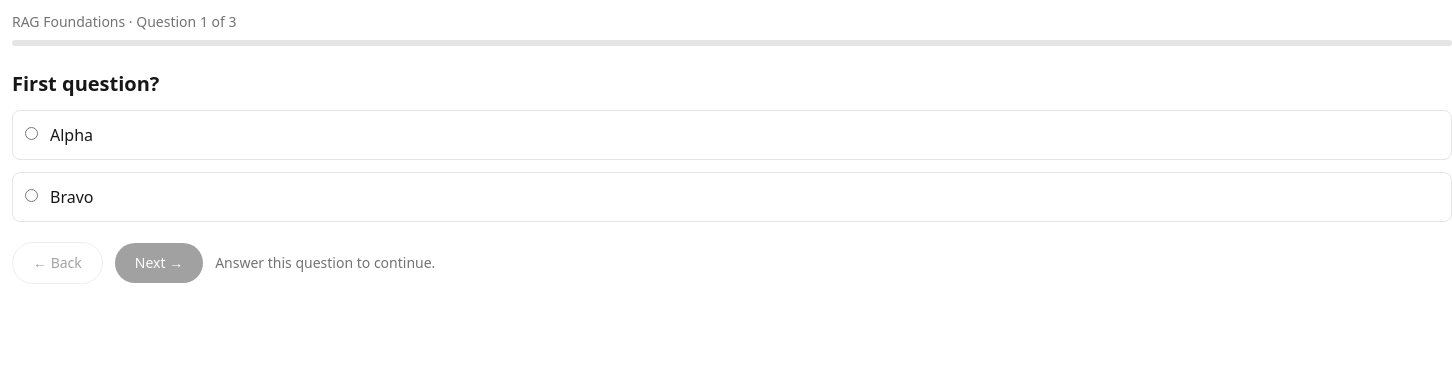
Test case: QuizRunner: one question per page › shows one question at a time, and Next needs an answer (with the reason shown)
Expected: the text "RAG Foundations · Question 1 of 3" is shown, [12, 12, 236, 31]
Expected: the heading reads "First question?", [12, 70, 159, 97]
What coordinates should you click on to do the following:
click the radio button labelled "Alpha"
I would click on:
 (32, 133)
Its box is [25, 126, 38, 140].
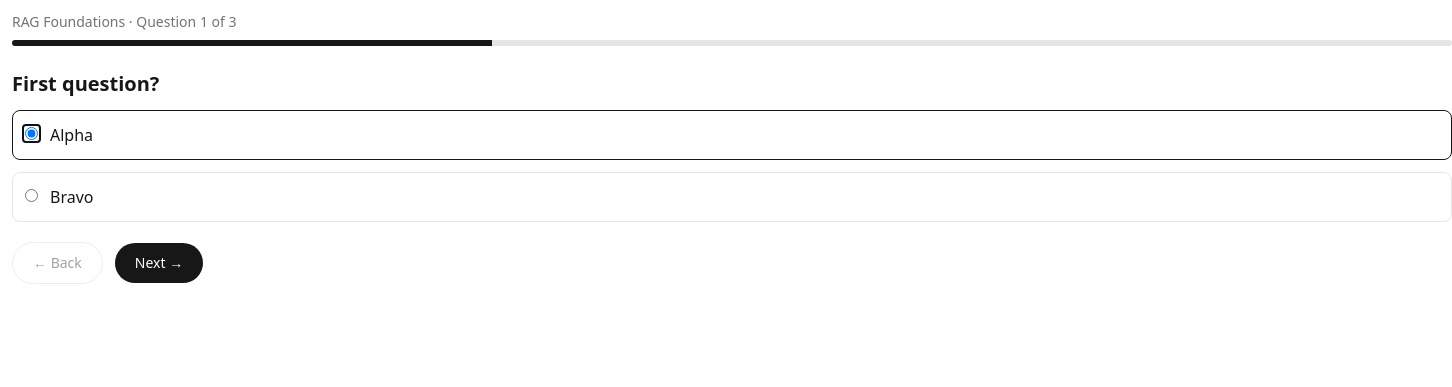
Result: the button "Next →" is enabled
What coordinates should you click on to do the following:
click the button "Next →"
I would click on:
 (159, 262)
Its box is [115, 242, 203, 282].
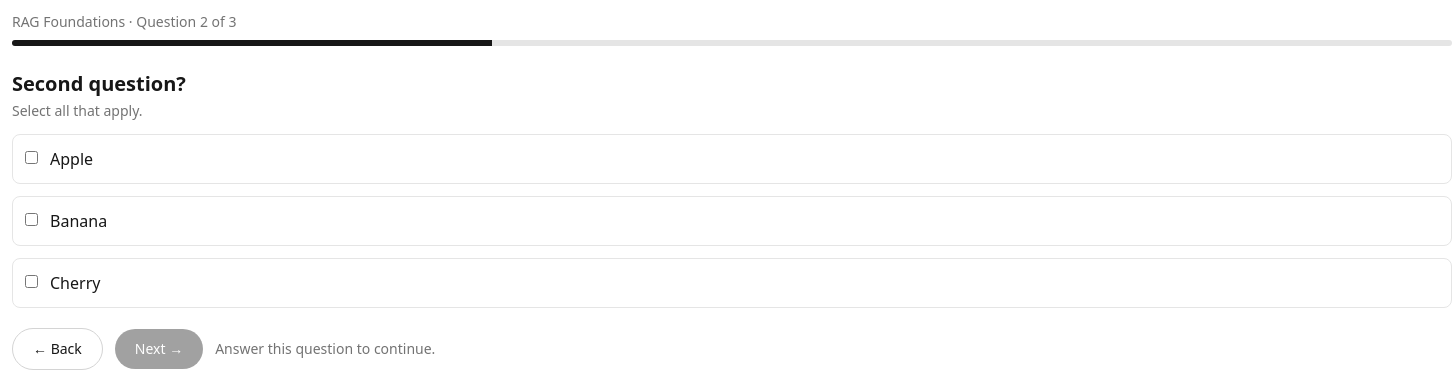
Result: the heading reads "Second question?" at [12, 70, 186, 97]
